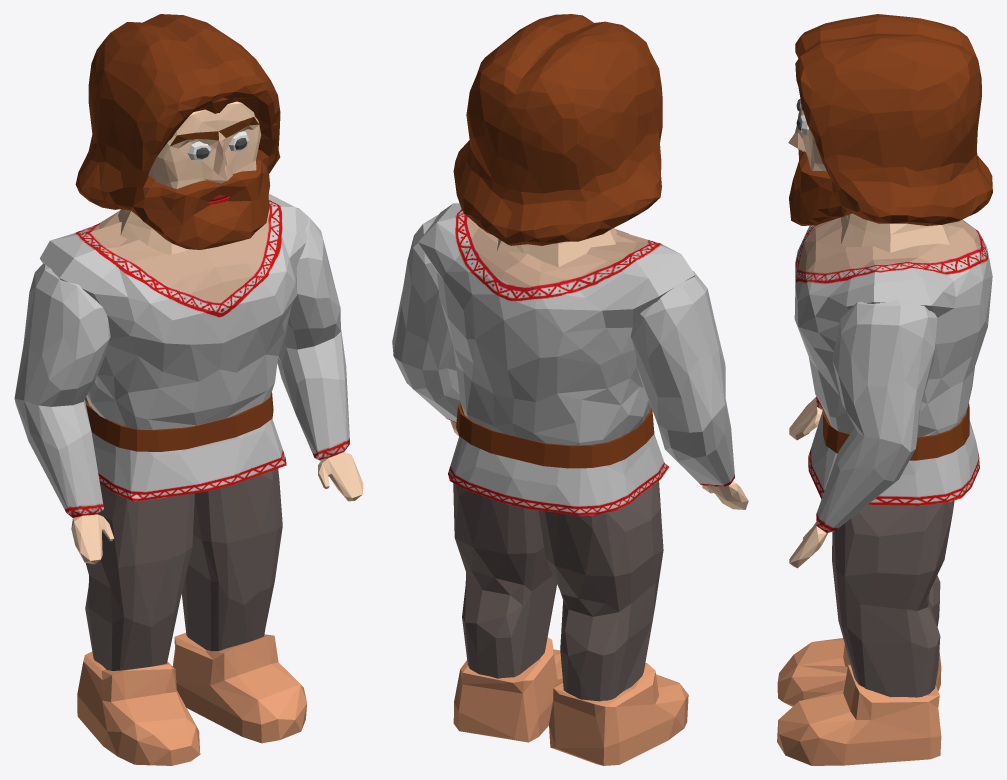
Rendered from Rus_None_anim.fbx.
3 views of the same model, side by side, from view 1: azimuth 30°, elevation 25°; view 2: azimuth 150°, elevation 25°; view 3: azimuth 270°, elevation 25° (orthographic). The views are drawn at different scales.
Parts seen in each view (by area): view 1: Rus.021, Rus.026, Rus.033, Rus.022, Rus.023, Rus.024, Rus.034, Rus.032, Rus.025, Rus.031; view 2: Rus.021, Rus.026, Rus.022, Rus.033, Rus.023, Rus.032, Rus.024, Rus.034, Rus.031, Rus.025; view 3: Rus.026, Rus.021, Rus.023, Rus.024, Rus.034, Rus.032, Rus.025, Rus.031, Rus.033, Rus.022.
Boxes of the visible parts, left/top/right/bottom form: Rus.021: left=40, top=194, right=308, bottom=501; Rus.026: left=75, top=14, right=280, bottom=249; Rus.033: left=14, top=263, right=114, bottom=564; Rus.022: left=85, top=483, right=194, bottom=670; Rus.023: left=181, top=468, right=282, bottom=651; Rus.024: left=277, top=207, right=363, bottom=501; Rus.034: left=172, top=632, right=306, bottom=743; Rus.032: left=77, top=651, right=200, bottom=765; Rus.025: left=118, top=101, right=261, bottom=254; Rus.031: left=85, top=392, right=273, bottom=451; Rus.021: left=418, top=203, right=694, bottom=515; Rus.026: left=453, top=14, right=662, bottom=245; Rus.022: left=538, top=481, right=663, bottom=701; Rus.033: left=631, top=271, right=748, bottom=509; Rus.023: left=453, top=483, right=556, bottom=678; Rus.032: left=549, top=662, right=688, bottom=765; Rus.024: left=392, top=214, right=460, bottom=436; Rus.034: left=453, top=637, right=562, bottom=742; Rus.031: left=456, top=402, right=654, bottom=468; Rus.025: left=497, top=227, right=616, bottom=267; Rus.026: left=789, top=14, right=992, bottom=225; Rus.021: left=794, top=217, right=992, bottom=505; Rus.023: left=832, top=500, right=954, bottom=697; Rus.024: left=789, top=300, right=937, bottom=568; Rus.034: left=777, top=664, right=941, bottom=765; Rus.032: left=777, top=638, right=941, bottom=706; Rus.025: left=788, top=103, right=949, bottom=252; Rus.031: left=823, top=403, right=969, bottom=460; Rus.033: left=789, top=396, right=822, bottom=440; Rus.022: left=928, top=575, right=940, bottom=626.
Bounding box in the file's own units: 128 × 264 × 74.26.
Materials: 11 (1 with a texture image).
